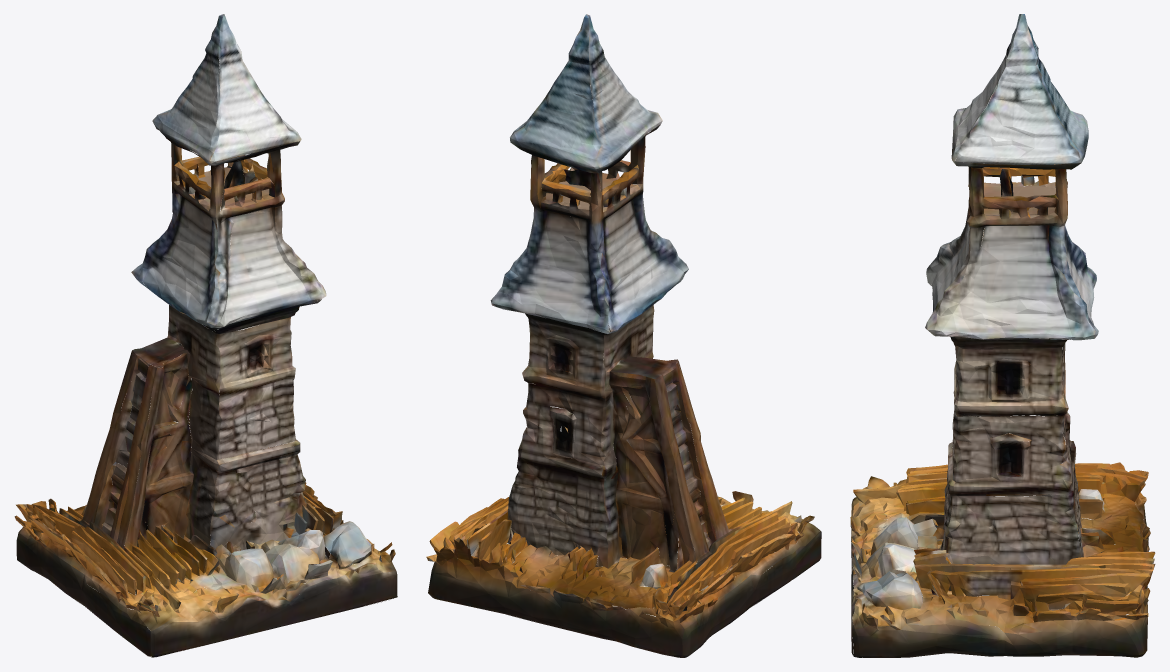
File: wt-village-watchtower.glb
3 views of the same model, side by side, from view 1: azimuth 30°, elevation 25°; view 2: azimuth 150°, elevation 25°; view 3: azimuth 270°, elevation 25° (orthographic). The views are drawn at different scales.
Visible parts, largest first — view 1: tmpfvt3jk2b.ply; view 2: tmpfvt3jk2b.ply; view 3: tmpfvt3jk2b.ply.
Boxes of the visible parts, x1,y1,x2,y2 form: tmpfvt3jk2b.ply: (14, 14, 397, 657); tmpfvt3jk2b.ply: (426, 14, 821, 657); tmpfvt3jk2b.ply: (850, 14, 1155, 657).
Size of the model in its own units: 3.07 by 6.19 by 2.88.
Materials: 1 (1 with a texture image).
